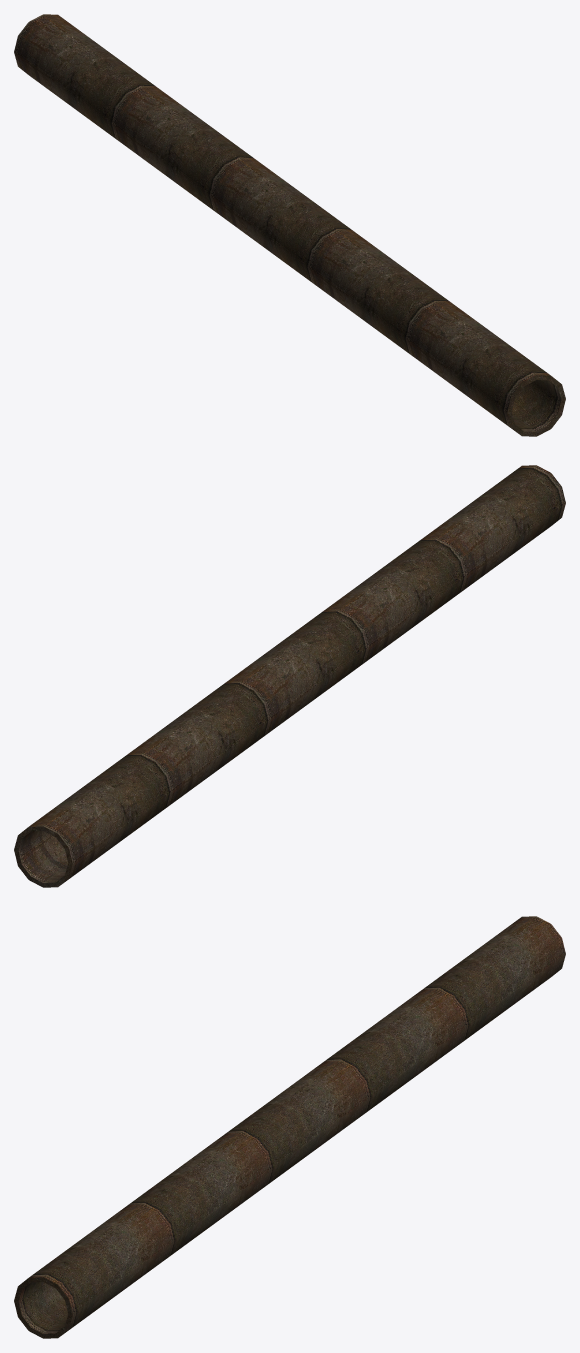
The model's file is pipe_ax_1.glb.
3 views of the same model, one above another, from view 1: azimuth 30°, elevation 25°; view 2: azimuth 150°, elevation 25°; view 3: azimuth 330°, elevation 25° (orthographic).
Visible parts, largest first — view 1: pipe_ax_1; view 2: pipe_ax_1; view 3: pipe_ax_1.
Part boxes in pixels (box(x1,y1,x2,y2)): pipe_ax_1: box(14, 14, 565, 436); pipe_ax_1: box(14, 465, 565, 887); pipe_ax_1: box(14, 916, 565, 1338).
Bounding box in the file's own units: 0.5 × 0.5 × 7.26.
Materials: 1 (1 with a texture image).
